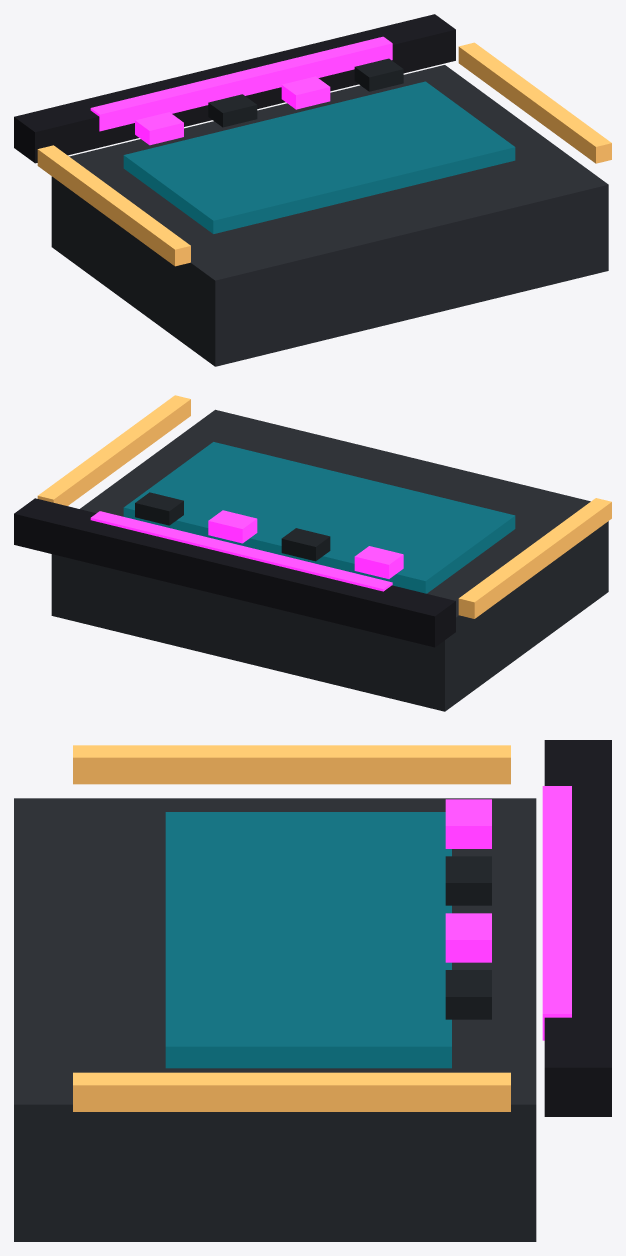
The model's file is network_control.glb.
3 renders of one model, top to bottom at view 1: azimuth 30°, elevation 25°; view 2: azimuth 150°, elevation 25°; view 3: azimuth 270°, elevation 25°, orthographic. The views are drawn at different scales.
Parts seen in each view (by area): view 1: network_control_low_housing, network_control_screen_glass, network_control_front_lip, network_control_accent_front_trace, network_control_warm_side_trim_l, network_control_warm_side_trim_r, network_control_small_key_3, network_control_small_key_1, network_control_small_key_2, network_control_small_key_0; view 2: network_control_low_housing, network_control_screen_glass, network_control_front_lip, network_control_warm_side_trim_l, network_control_warm_side_trim_r, network_control_accent_front_trace, network_control_small_key_1, network_control_small_key_2, network_control_small_key_0, network_control_small_key_3; view 3: network_control_low_housing, network_control_screen_glass, network_control_front_lip, network_control_warm_side_trim_l, network_control_warm_side_trim_r, network_control_accent_front_trace, network_control_small_key_0, network_control_small_key_1, network_control_small_key_2, network_control_small_key_3.
Boxes of the visible parts, x1=… form: network_control_low_housing: x1=51, y1=65, x2=608, y2=366; network_control_screen_glass: x1=123, y1=81, x2=515, y2=233; network_control_front_lip: x1=14, y1=14, x2=455, y2=163; network_control_accent_front_trace: x1=90, y1=36, x2=392, y2=131; network_control_warm_side_trim_l: x1=37, y1=145, x2=190, y2=266; network_control_warm_side_trim_r: x1=458, y1=42, x2=611, y2=163; network_control_small_key_3: x1=354, y1=58, x2=403, y2=91; network_control_small_key_1: x1=208, y1=94, x2=257, y2=127; network_control_small_key_2: x1=281, y1=76, x2=330, y2=109; network_control_small_key_0: x1=135, y1=112, x2=183, y2=145; network_control_low_housing: x1=51, y1=409, x2=608, y2=711; network_control_screen_glass: x1=123, y1=442, x2=515, y2=593; network_control_front_lip: x1=14, y1=498, x2=455, y2=647; network_control_warm_side_trim_l: x1=458, y1=498, x2=611, y2=618; network_control_warm_side_trim_r: x1=37, y1=395, x2=190, y2=505; network_control_accent_front_trace: x1=90, y1=511, x2=392, y2=591; network_control_small_key_1: x1=281, y1=528, x2=330, y2=561; network_control_small_key_2: x1=208, y1=510, x2=257, y2=543; network_control_small_key_0: x1=354, y1=546, x2=403, y2=578; network_control_small_key_3: x1=135, y1=492, x2=183, y2=525; network_control_low_housing: x1=14, y1=798, x2=536, y2=1241; network_control_screen_glass: x1=165, y1=812, x2=451, y2=1068; network_control_front_lip: x1=544, y1=740, x2=611, y2=1116; network_control_warm_side_trim_l: x1=73, y1=745, x2=510, y2=784; network_control_warm_side_trim_r: x1=73, y1=1072, x2=510, y2=1111; network_control_accent_front_trace: x1=542, y1=786, x2=571, y2=1040; network_control_small_key_0: x1=445, y1=799, x2=491, y2=848; network_control_small_key_1: x1=445, y1=856, x2=491, y2=905; network_control_small_key_2: x1=445, y1=913, x2=491, y2=962; network_control_small_key_3: x1=445, y1=970, x2=491, y2=1019.
Bounding box in the file's own units: 0.955 × 0.25 × 0.71.
